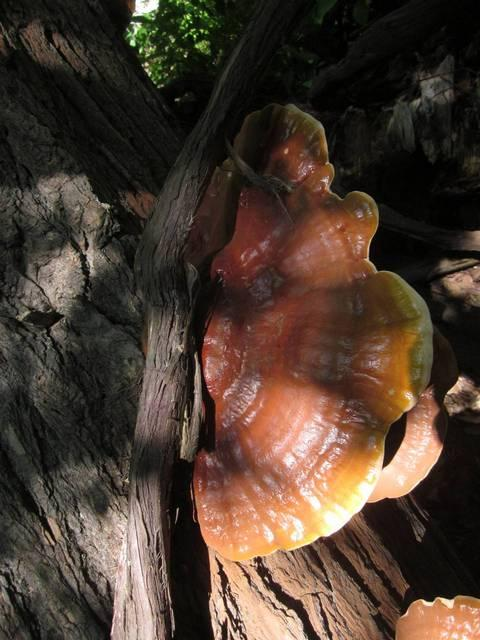Non-edible Mushroom: (186, 100, 451, 561)
